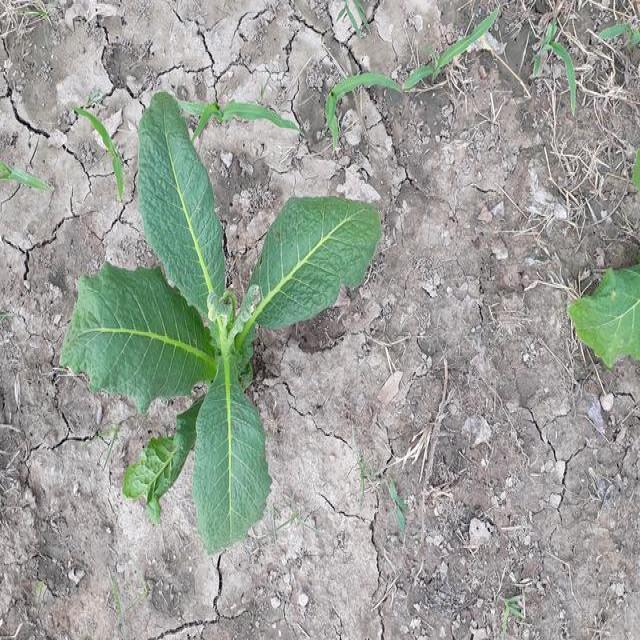crop: (74, 92, 371, 552), (560, 256, 640, 371)
